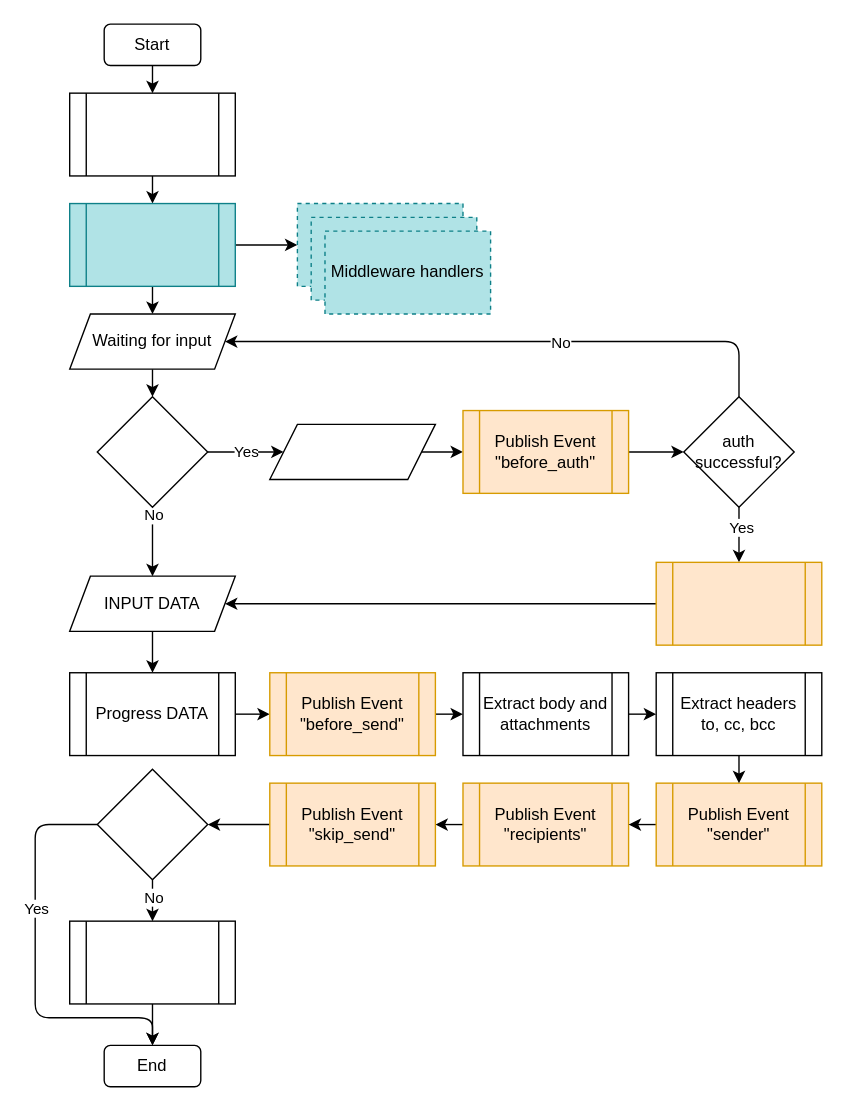
Image size: 846x1111. Some labels were removed from this diagram. The centre of each missing label's shape, as x and y in pixels:
auth required?: (x=152, y=451)
Initialize SMTPd: (x=151, y=134)
INPUT AUTH: (x=351, y=451)
Load Middleware: (x=151, y=244)
Publish Event "after_auth": (x=738, y=603)
Send Mail with MS Graph: (x=151, y=962)
skip submit?: (x=152, y=824)
